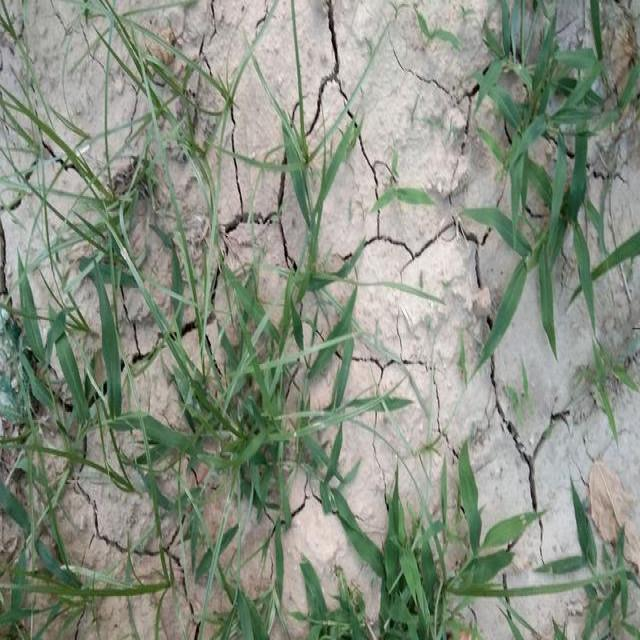weed: (8, 65, 142, 619), (140, 276, 390, 516), (494, 18, 640, 335), (344, 481, 536, 640), (249, 62, 360, 291), (168, 533, 354, 640), (567, 481, 640, 640)
